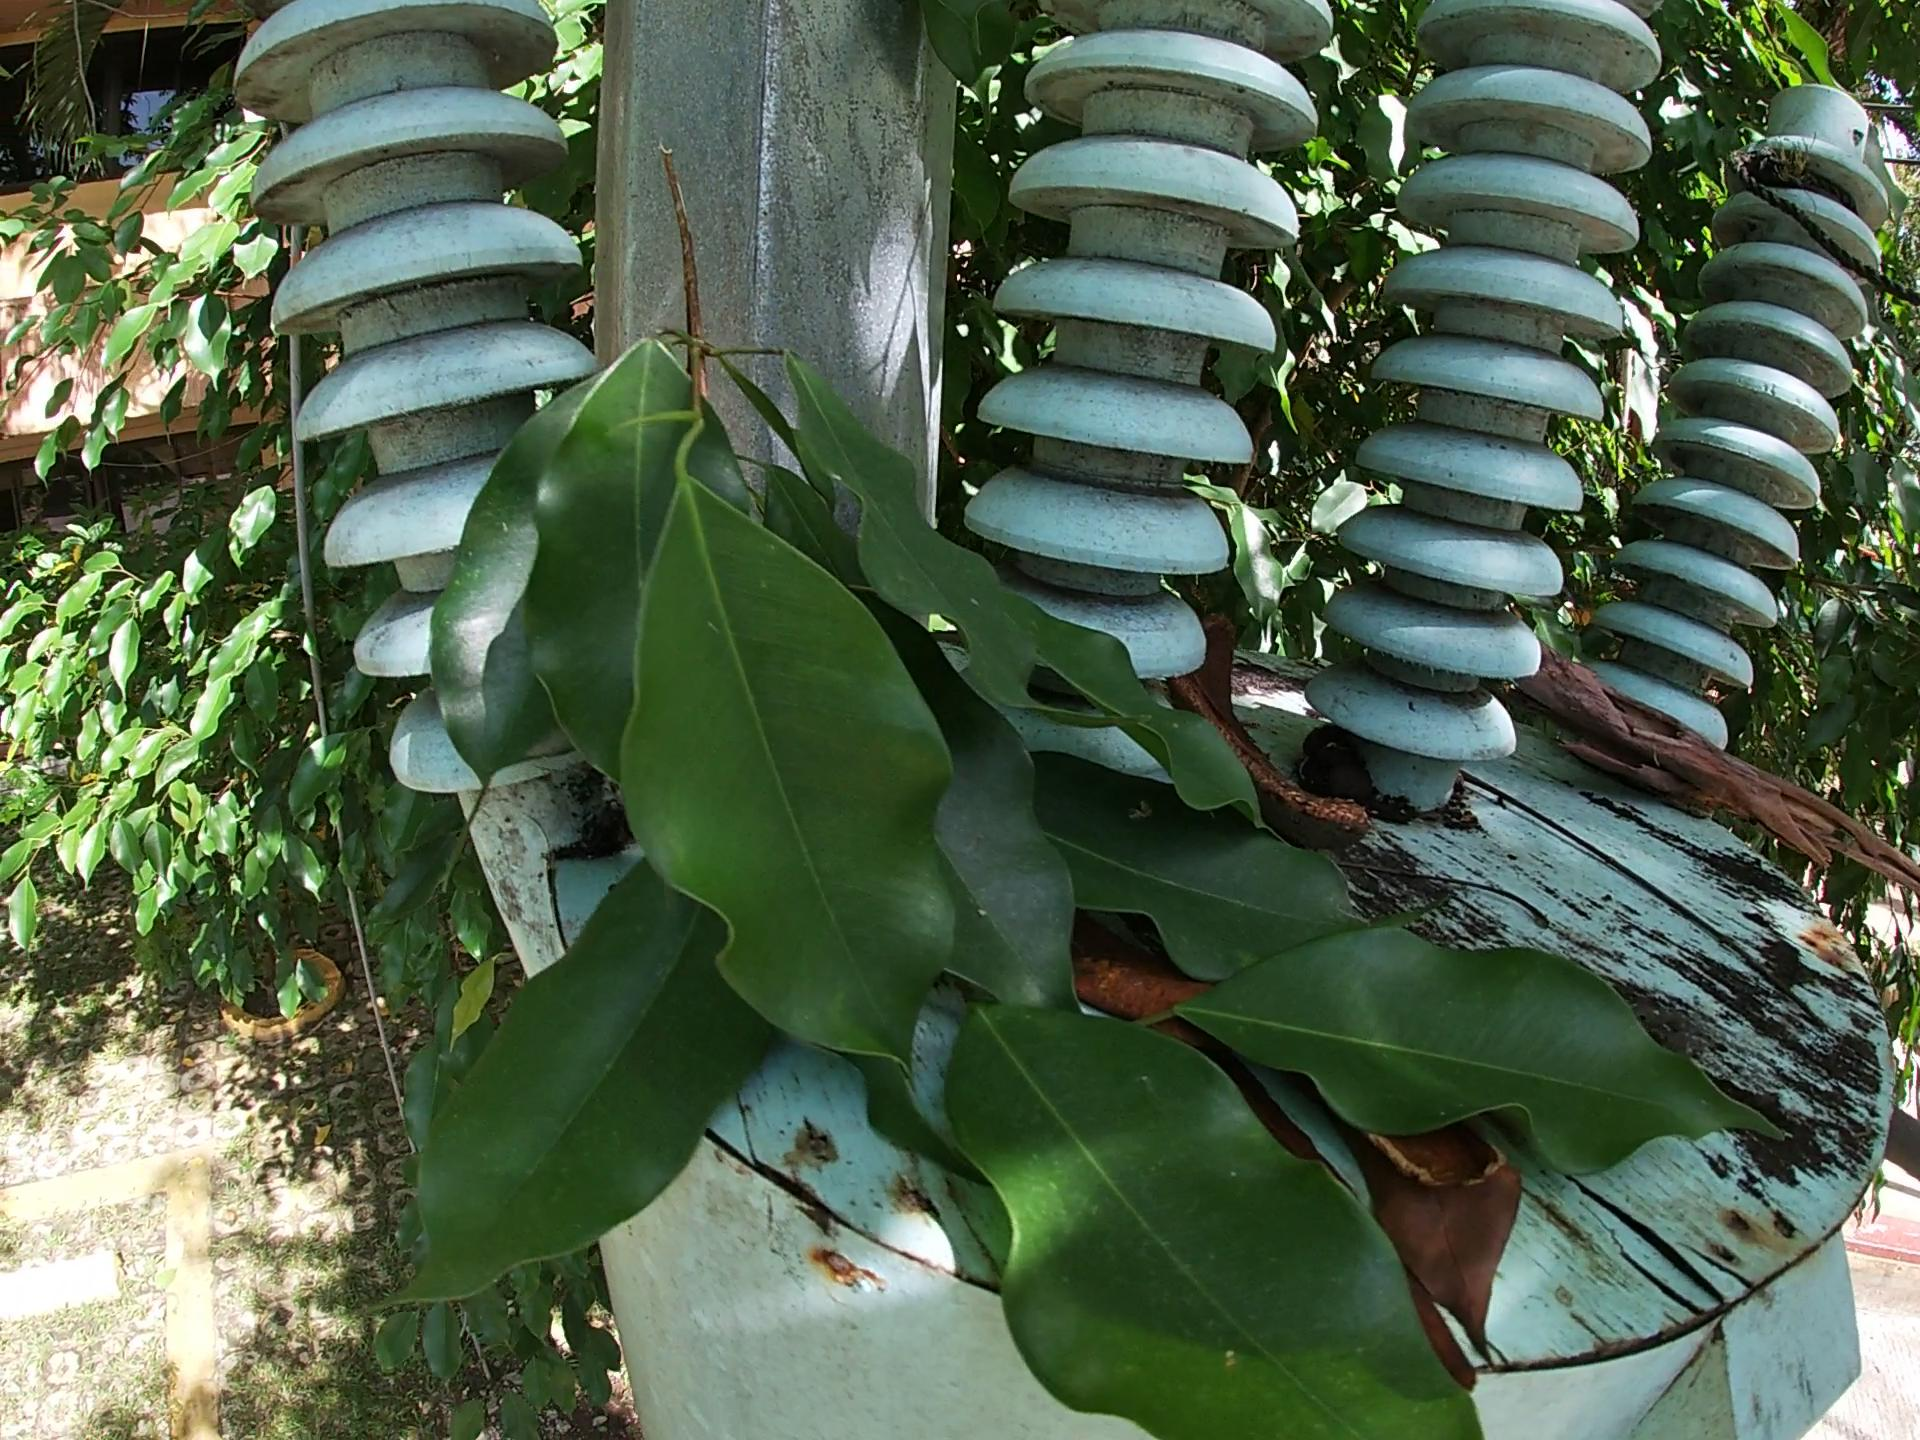branch with leaves: (248, 145, 1834, 1438)
leaf: (1383, 1184, 1528, 1361), (1048, 917, 1222, 1038)
mahogany fruit: (1169, 608, 1382, 853), (1353, 1119, 1498, 1213)
tree branch: (1510, 625, 1912, 930), (1474, 774, 1843, 1047), (1364, 864, 1569, 938)
